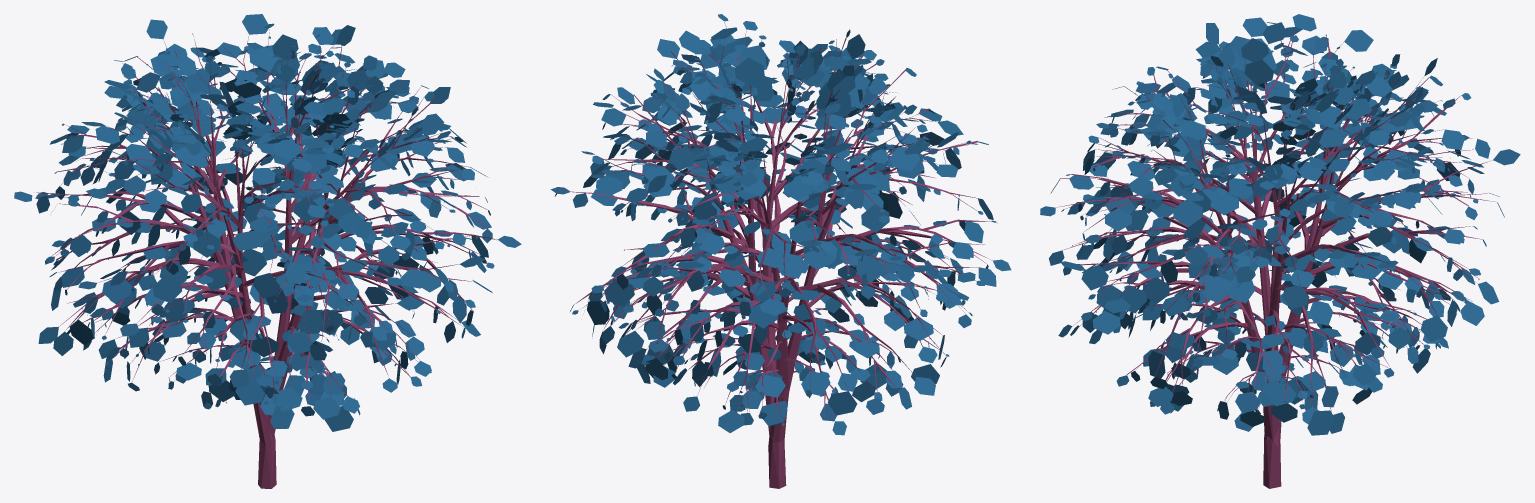
The model's file is BlueandPinkTree.fbx.
3 renders of one model, left to right at view 1: azimuth 30°, elevation 25°; view 2: azimuth 150°, elevation 25°; view 3: azimuth 270°, elevation 25°, orthographic.
Parts seen in each view (by area): view 1: Blue and pink tree; view 2: Blue and pink tree; view 3: Blue and pink tree.
Part boxes in pixels (bbox=[...]): Blue and pink tree: bbox=[14, 14, 521, 488]; Blue and pink tree: bbox=[550, 14, 1011, 488]; Blue and pink tree: bbox=[1040, 14, 1520, 488].
Size of the model in its own units: 1016 by 1077 by 1071.
